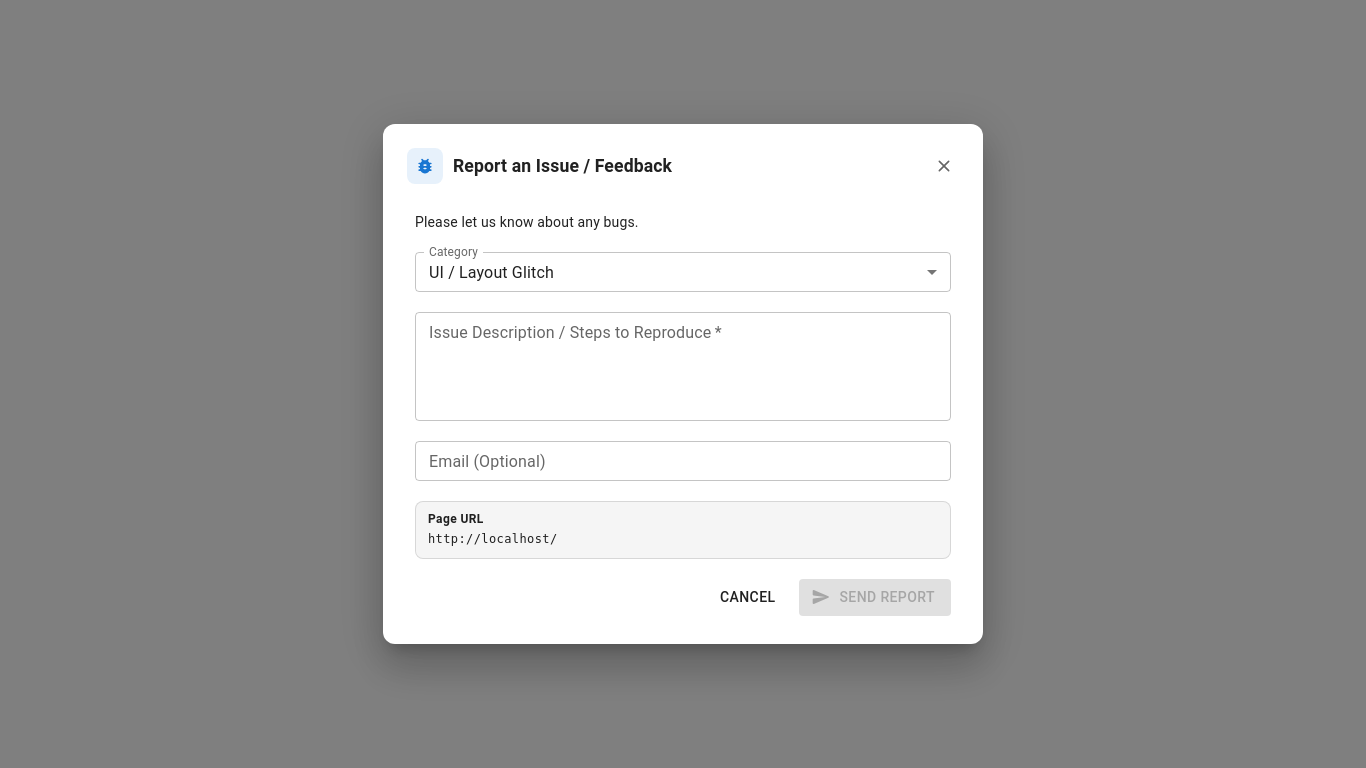
Scenario: BugReportDialog › handles Sentry capture failure gracefully
This screenshot has width=1366, height=768.
Type "Failing bug report" into the text box labelled "Issue Description / Steps to Reproduce *" at (683, 367), box [429,321,937,413]
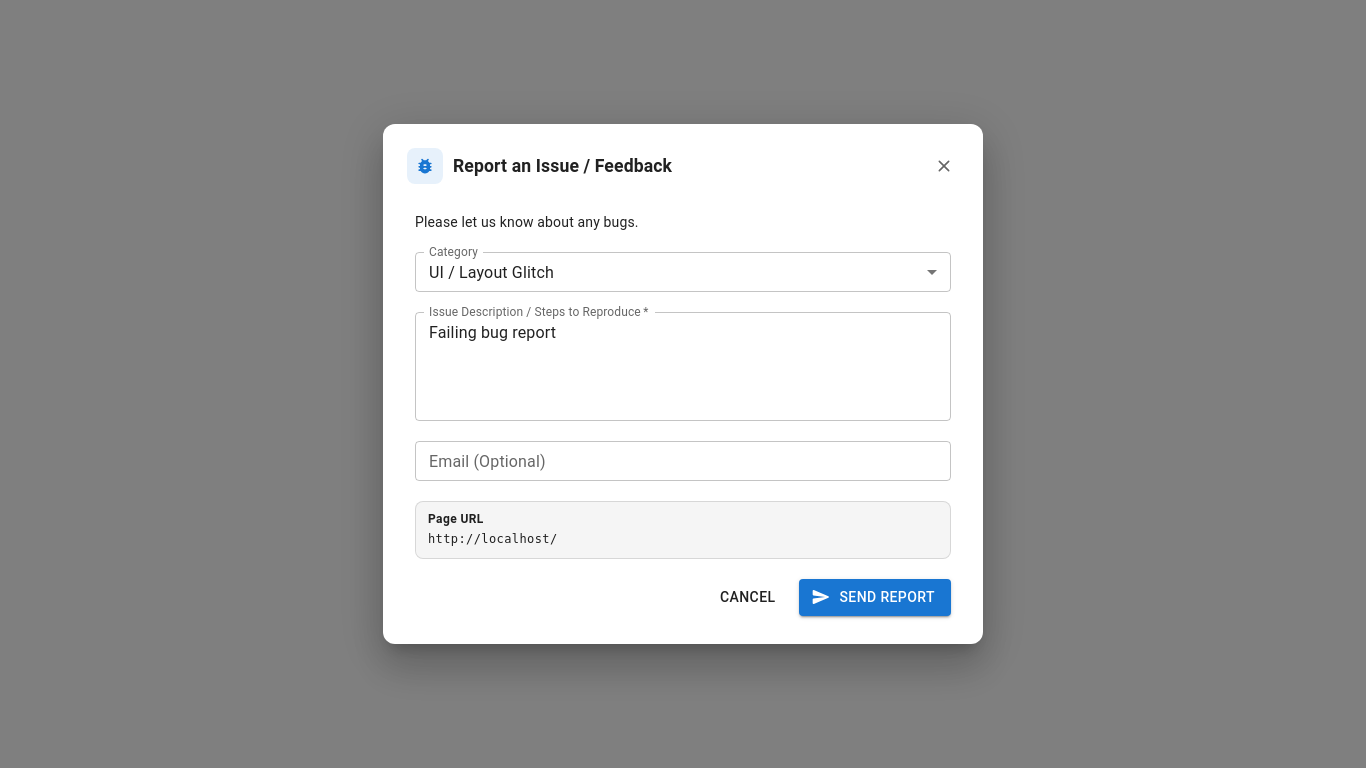
Click the button "Send Report" at (875, 597), box [800,579,951,616]
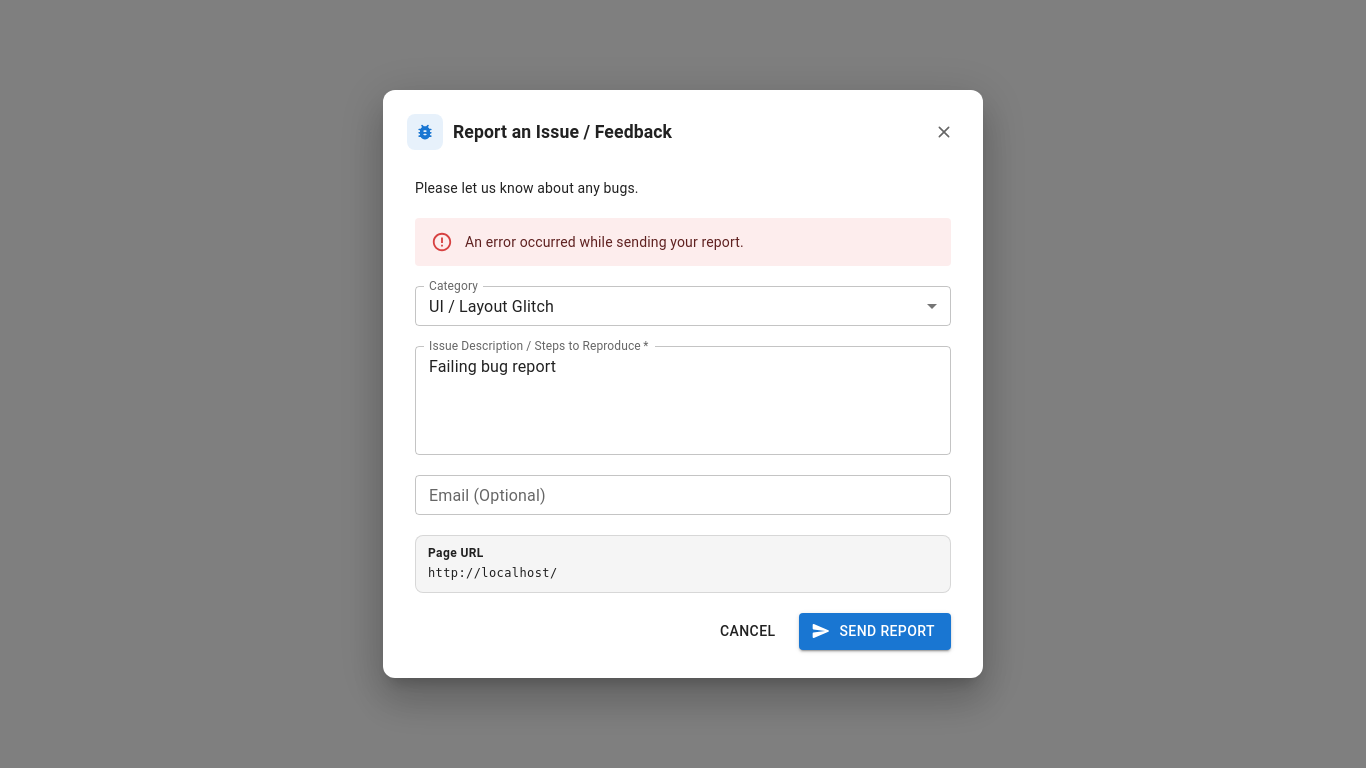
Result: the text "An error occurred while sending your report." is shown at [465,234,744,250]
